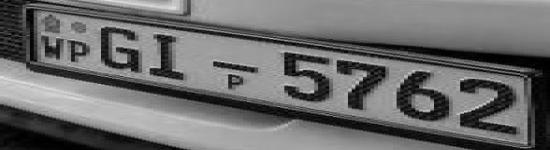-: (205, 59, 265, 74)
2: (453, 77, 523, 137)
5: (276, 49, 336, 103)
6: (395, 68, 453, 123)
7: (335, 58, 393, 111)
G: (92, 24, 148, 75)
I: (146, 32, 191, 81)
P: (66, 37, 93, 65)
W: (39, 34, 68, 60)
